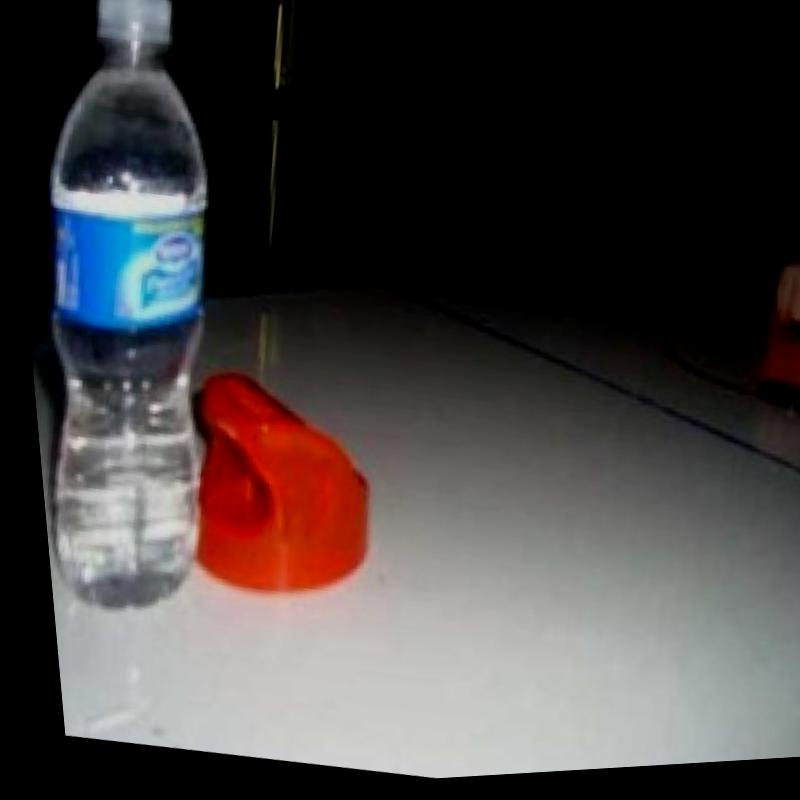botella: (0, 0, 290, 625)
